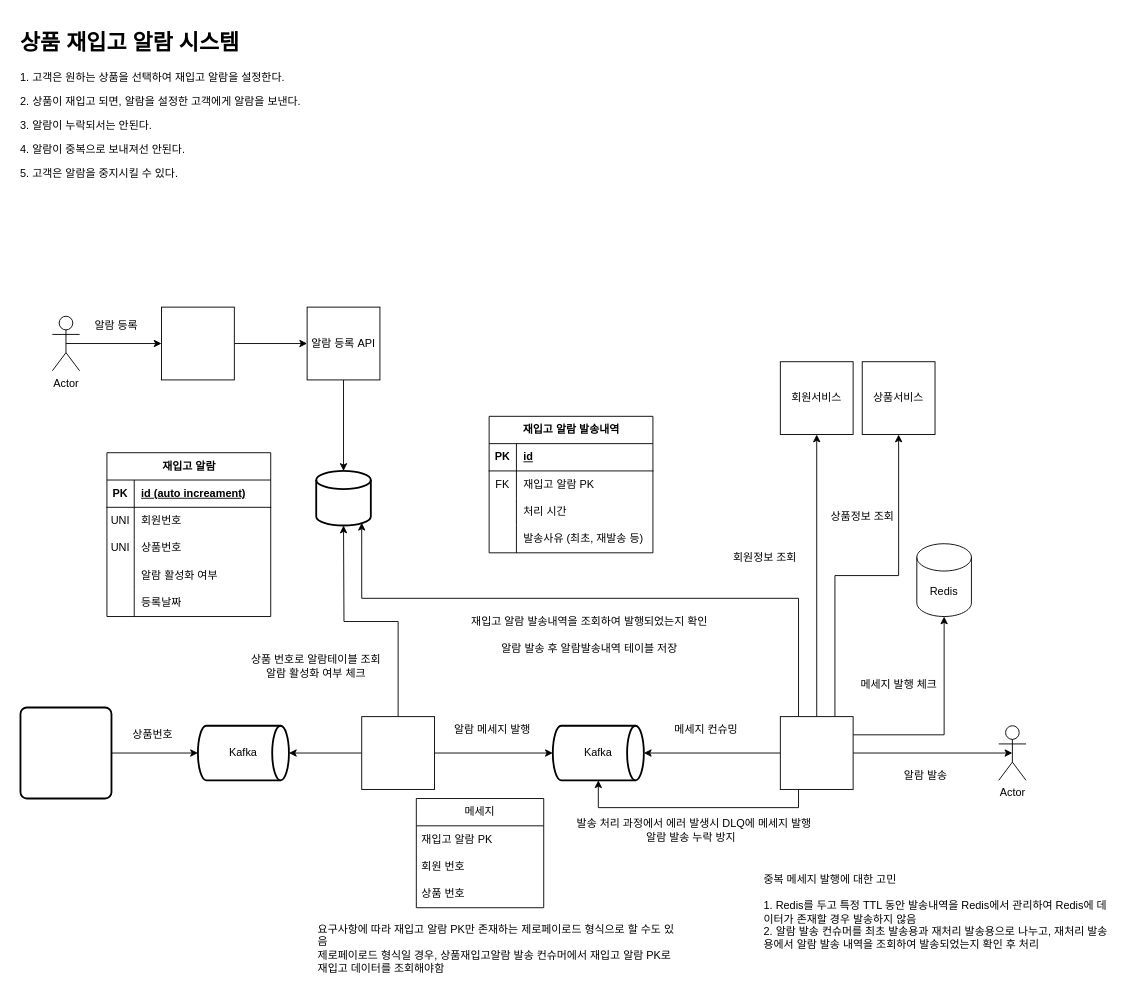
Some shapes in this 1123 by 996 pixel diagram are drawn without their labels. The shapes that lost their labels are listed below. From the top down, each one's centre as x and y in pixels, then its label:
[197,343]: App / Web (Front)
[343,498]: RDS (master & slave)
[65,752]: 상품입고
[398,752]: 상품 재입고 컨슈머
[816,752]: 상품 재입고 알람 발송 컨슈머
